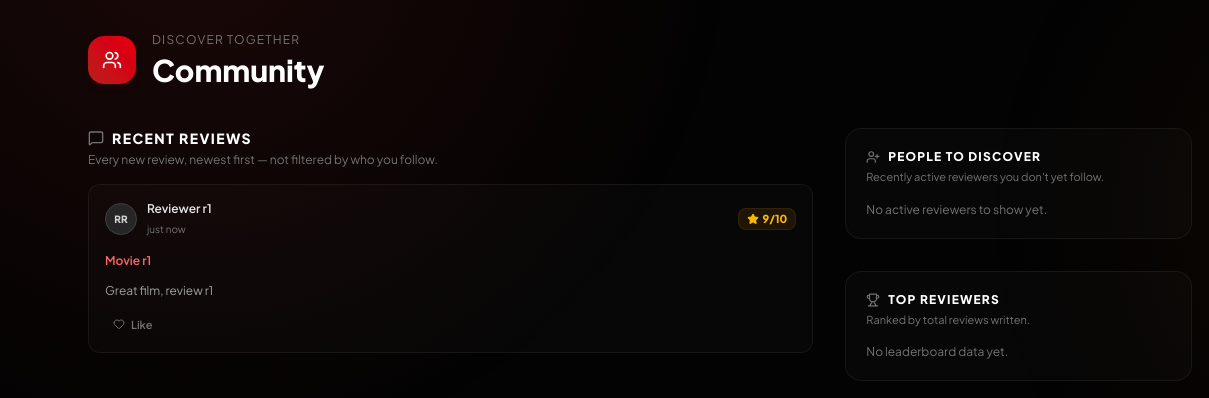
Test case: CommunityFeed (Phase 49) › disables the like button and ignores a second click while a like request is in flight (Phase 51)
Expected: the text "Reviewer r1" is shown, [147, 201, 212, 217]
Click the button named "like this review" at (133, 324), box [105, 312, 160, 336]
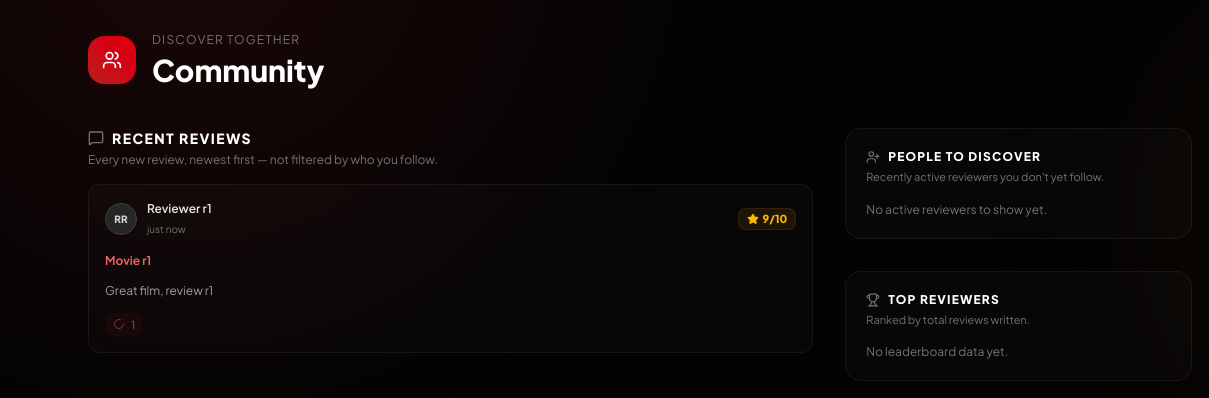
Now the button named "like this review" is disabled
A rapid second click while busy must not fire a second request.
Click the button named "like this review" at (124, 324), box [105, 312, 143, 336]
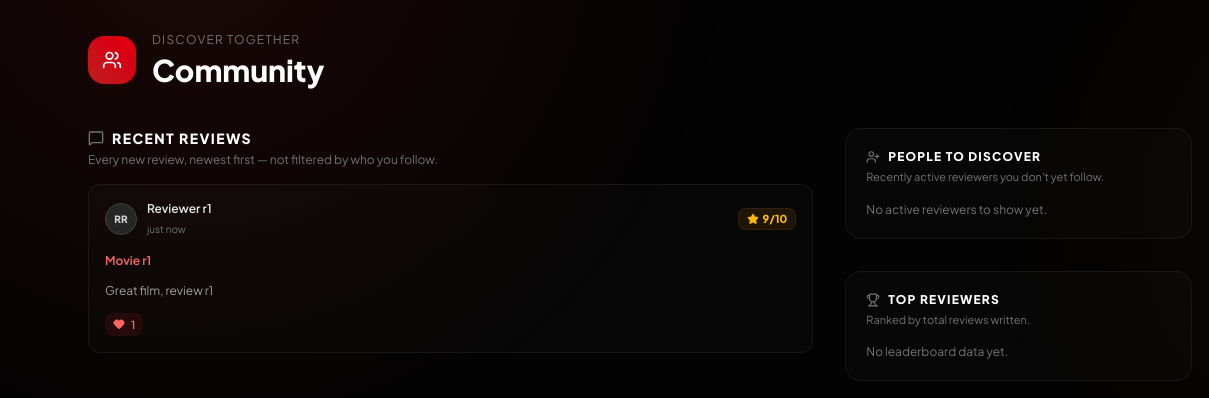
Now the button named "like this review" is enabled, box [105, 312, 143, 336]
